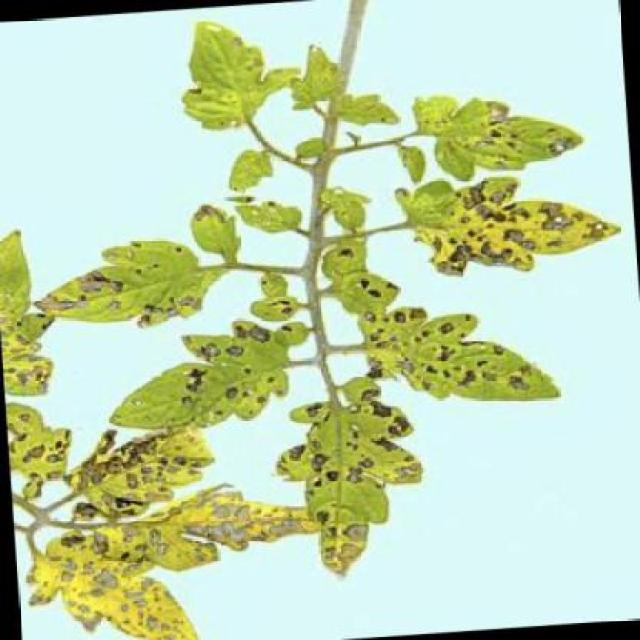Septoria leaf spot: (12, 200, 270, 369), (270, 366, 444, 606), (92, 301, 315, 470), (383, 164, 637, 287), (346, 287, 578, 415), (400, 69, 631, 189), (38, 426, 227, 541), (160, 16, 307, 155)
